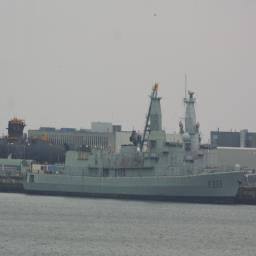Fragata: (21, 80, 250, 210)
